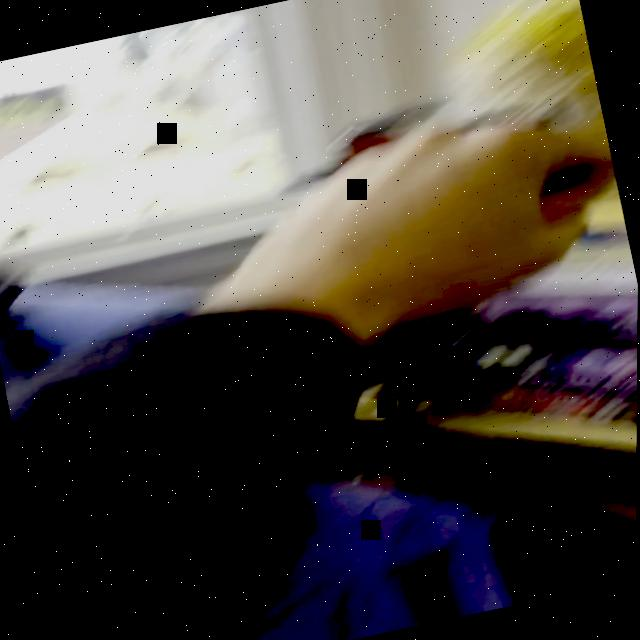Rock: (234, 92, 637, 351)
